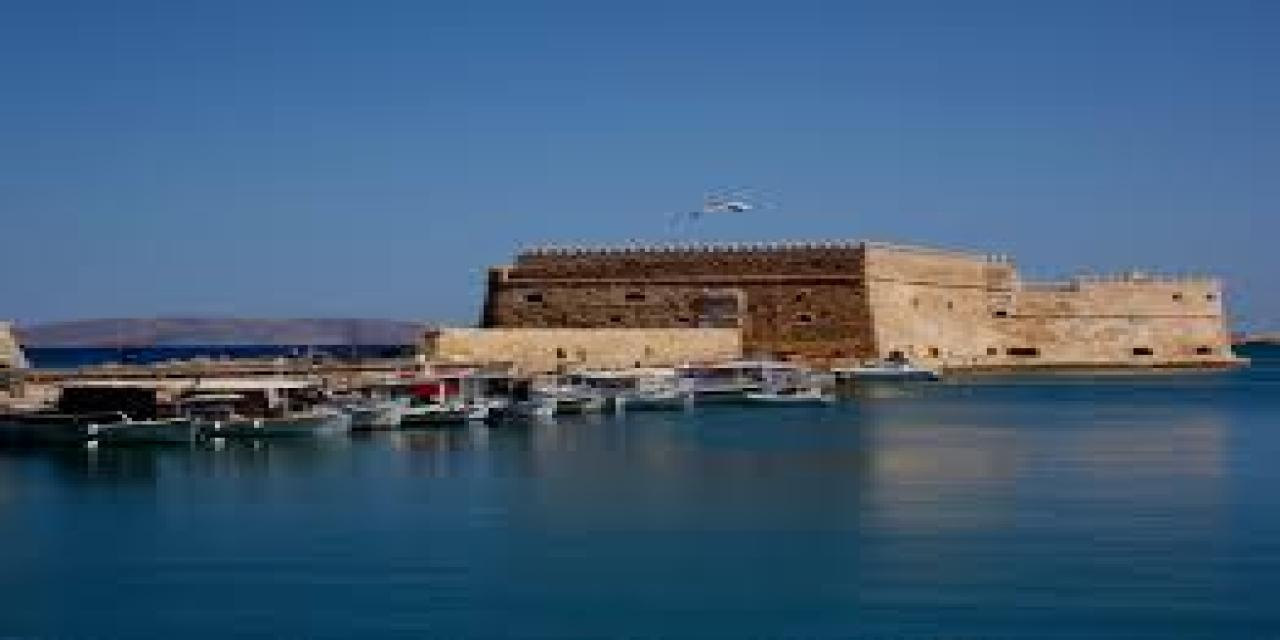Kules: (425, 223, 1255, 375)
